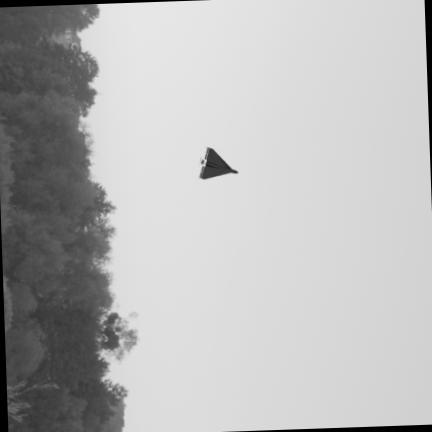Shahed: (200, 148, 237, 179)
